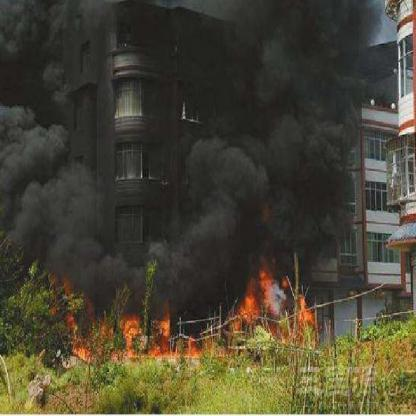fire: (214, 264, 320, 348), (57, 298, 206, 354)
smoke: (160, 5, 378, 262), (6, 0, 82, 249), (68, 223, 228, 294)
